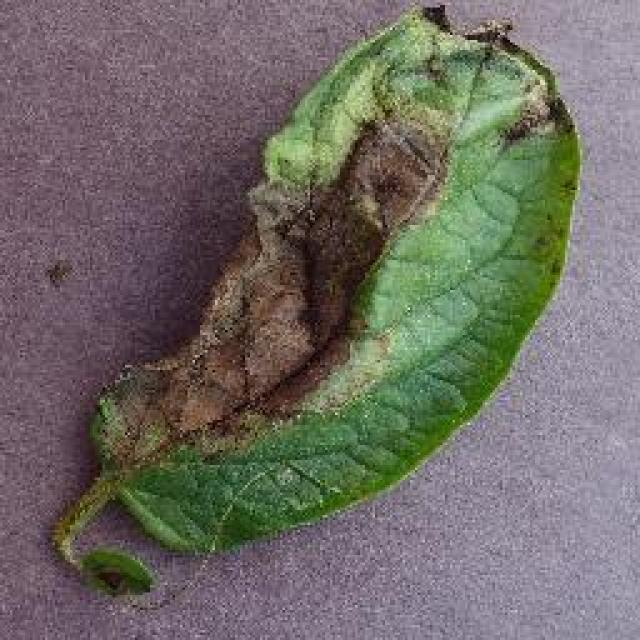Potato___Late_blight: (42, 0, 599, 612)
